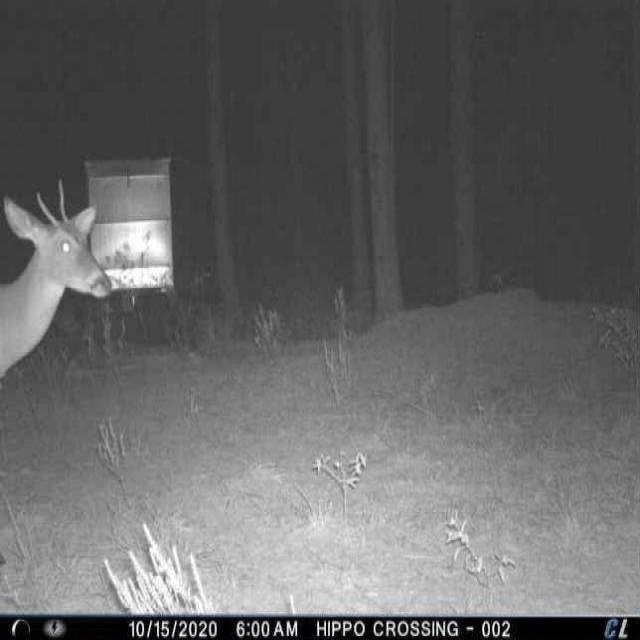deer: (0, 173, 117, 384)
